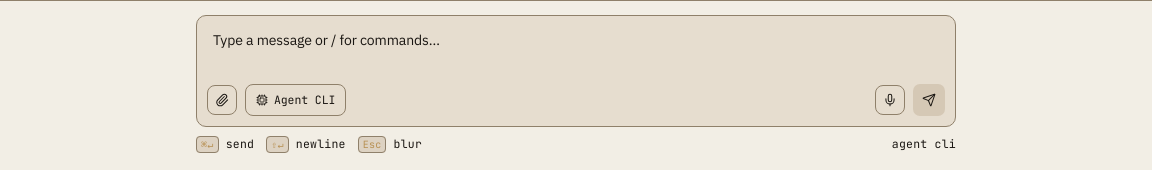
Test: ChatInputBar chip row › send button is enabled after typing
Type "hello" into the text box with test id "chat-composer-input".
click(576, 46); type("hello")  # box [197, 16, 955, 76]
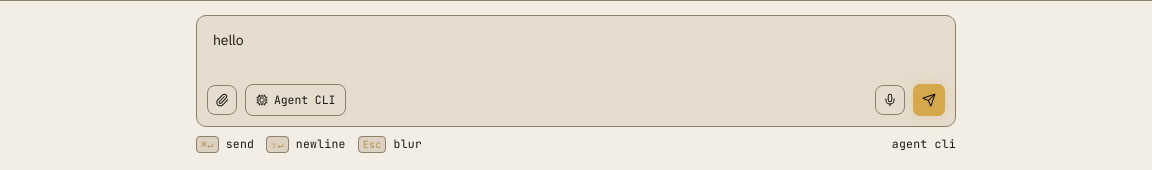
Check: the button with test id "composer-send-btn" is enabled, box [913, 84, 945, 116]
